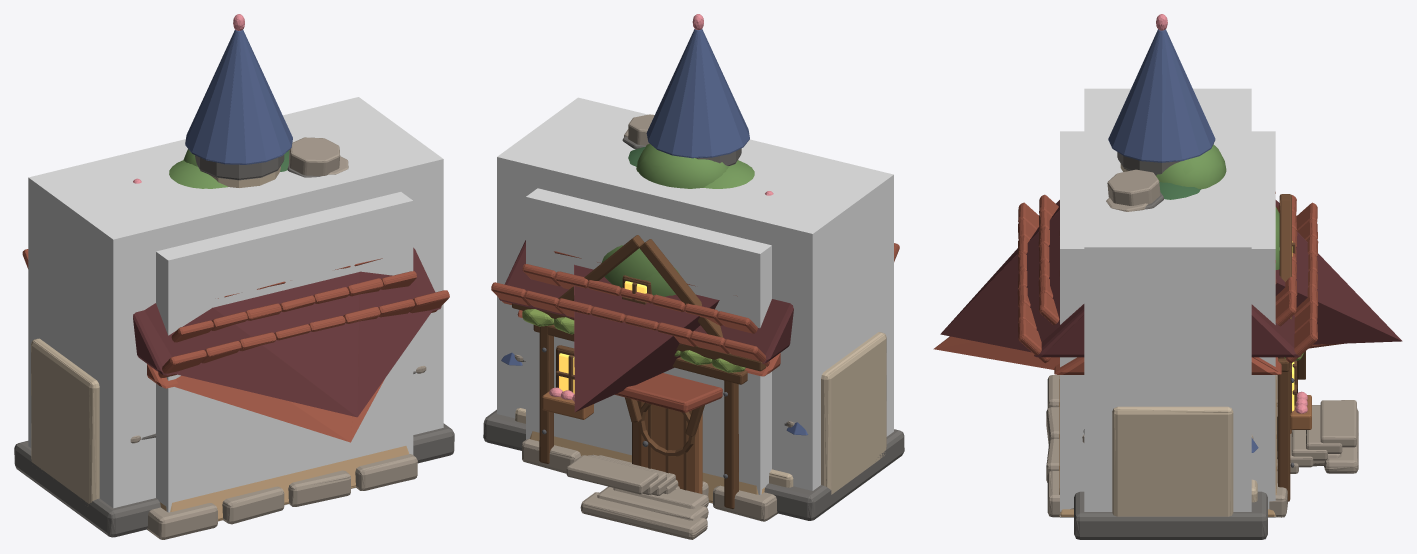
The model's file is pinebarrow_hero.glb.
3 views of the same model, side by side, from view 1: azimuth 30°, elevation 25°; view 2: azimuth 150°, elevation 25°; view 3: azimuth 270°, elevation 25° (orthographic). The views are drawn at different scales.
Parts seen in each view (by area): view 1: COL_HillCastle, COL_HeroCottage, HeroCottage_LOD1_Roof_Shadow, HillCastle_LOD0_Castle_Stone, HeroCottage_LOD0_Stone_Warm, HillCastle_LOD0_Castle_Blue, HeroCottage_LOD0_Roof_Terracotta, HillCastle_LOD0_Stone_Dark, VillageSmithy_LOD1_Roof_Terracotta, HillCastle_LOD1_Castle_Blue, HeroCottage_LOD0_Wall_Warm, HeroCottage_LOD0_Roof_Shadow (+5 smaller); view 2: COL_HillCastle, COL_HeroCottage, HeroCottage_LOD0_Timber_Dark, HeroCottage_LOD1_Roof_Shadow, HeroCottage_LOD0_Roof_Terracotta, HillCastle_LOD0_Castle_Stone, HeroCottage_LOD0_Stone_Warm, HillCastle_LOD0_Castle_Blue, HillCastle_LOD0_Stone_Dark, StorybookTree_LOD0_Leaf_Mid, HeroCottage_LOD0_Timber_Mid, HeroCottage_LOD0_Roof_Shadow (+11 smaller); view 3: COL_HillCastle, COL_HeroCottage, HillCastle_LOD0_Castle_Stone, HeroCottage_LOD1_Roof_Shadow, HeroCottage_LOD0_Roof_Terracotta, HillCastle_LOD0_Castle_Blue, HillCastle_LOD0_Stone_Dark, HeroCottage_LOD0_Stone_Warm, HeroCottage_LOD0_Roof_Shadow, HillCastle_LOD0_Stone_Warm, HeroCottage_LOD0_Timber_Dark, HillCastle_LOD1_Castle_Blue (+5 smaller).
Part boxes in pixels (left/top/right/bottom): COL_HillCastle: left=28, top=97, right=443, bottom=508; COL_HeroCottage: left=156, top=192, right=413, bottom=521; HeroCottage_LOD1_Roof_Shadow: left=144, top=248, right=432, bottom=417; HillCastle_LOD0_Castle_Stone: left=31, top=166, right=280, bottom=506; HeroCottage_LOD0_Stone_Warm: left=147, top=137, right=417, bottom=539; HillCastle_LOD0_Castle_Blue: left=185, top=30, right=292, bottom=164; HeroCottage_LOD0_Roof_Terracotta: left=22, top=249, right=449, bottom=377; HillCastle_LOD0_Stone_Dark: left=14, top=154, right=454, bottom=537; VillageSmithy_LOD1_Roof_Terracotta: left=174, top=375, right=384, bottom=442; HillCastle_LOD1_Castle_Blue: left=186, top=30, right=290, bottom=164; HeroCottage_LOD0_Wall_Warm: left=160, top=446, right=409, bottom=520; HeroCottage_LOD0_Roof_Shadow: left=133, top=247, right=441, bottom=375; COL_HillCastle: left=497, top=97, right=893, bottom=490; COL_HeroCottage: left=526, top=188, right=771, bottom=503; HeroCottage_LOD0_Timber_Dark: left=512, top=235, right=766, bottom=508; HeroCottage_LOD1_Roof_Shadow: left=574, top=264, right=719, bottom=412; HeroCottage_LOD0_Roof_Terracotta: left=491, top=243, right=899, bottom=412; HillCastle_LOD0_Castle_Stone: left=515, top=332, right=886, bottom=494; HeroCottage_LOD0_Stone_Warm: left=522, top=114, right=777, bottom=539; HillCastle_LOD0_Castle_Blue: left=501, top=29, right=807, bottom=435; HillCastle_LOD0_Stone_Dark: left=483, top=148, right=904, bottom=520; StorybookTree_LOD0_Leaf_Mid: left=601, top=144, right=754, bottom=296; HeroCottage_LOD0_Timber_Mid: left=542, top=391, right=702, bottom=493; HeroCottage_LOD0_Roof_Shadow: left=499, top=240, right=793, bottom=363; COL_HillCastle: left=1084, top=88, right=1251, bottom=511; COL_HeroCottage: left=1060, top=131, right=1275, bottom=517; HillCastle_LOD0_Castle_Stone: left=1112, top=164, right=1257, bottom=516; HeroCottage_LOD1_Roof_Shadow: left=940, top=205, right=1402, bottom=352; HeroCottage_LOD0_Roof_Terracotta: left=1017, top=192, right=1343, bottom=362; HillCastle_LOD0_Castle_Blue: left=1108, top=29, right=1258, bottom=452; HillCastle_LOD0_Stone_Dark: left=1074, top=152, right=1267, bottom=539; HeroCottage_LOD0_Stone_Warm: left=1046, top=169, right=1358, bottom=517; HeroCottage_LOD0_Roof_Shadow: left=1034, top=200, right=1301, bottom=357; HillCastle_LOD0_Stone_Warm: left=1277, top=400, right=1356, bottom=473; HeroCottage_LOD0_Timber_Dark: left=1277, top=194, right=1305, bottom=501; HillCastle_LOD1_Castle_Blue: left=1109, top=29, right=1215, bottom=162.
Bounding box in the file's own units: 6.5 × 8.28 × 7.75.
